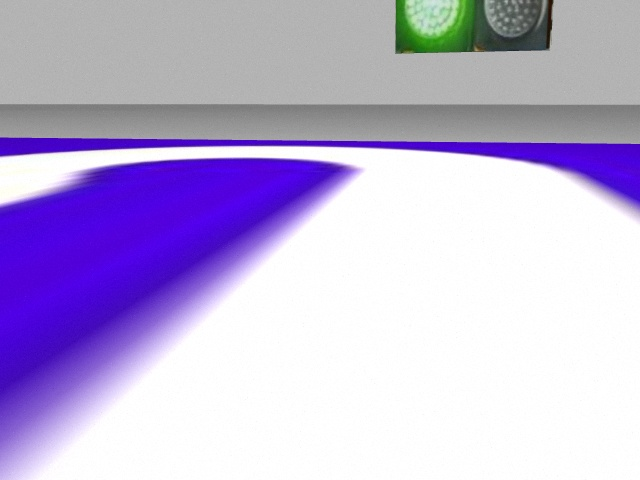green: (395, 2, 474, 52)
